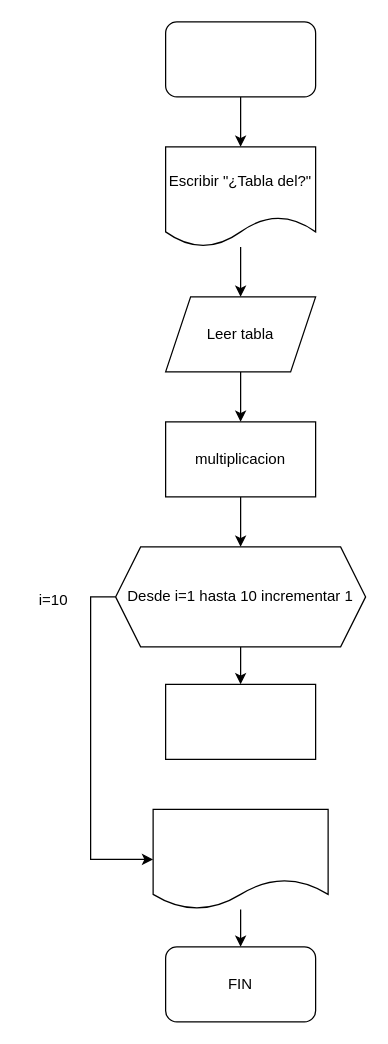
Image size: 388x1044. Some labels were removed from this diagram. The centre of each missing label's shape, as x and y in pixels:
Escribir "tabla + "x" + i + "=" + multiplicacion": (x=240, y=858)
INICIO: (x=240, y=59)
multiplicacion=tabla*i: (x=240, y=721)
